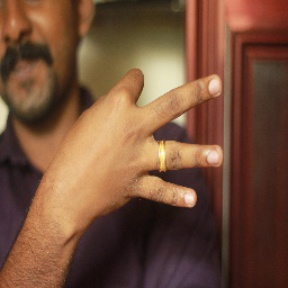K: (57, 69, 227, 220)
